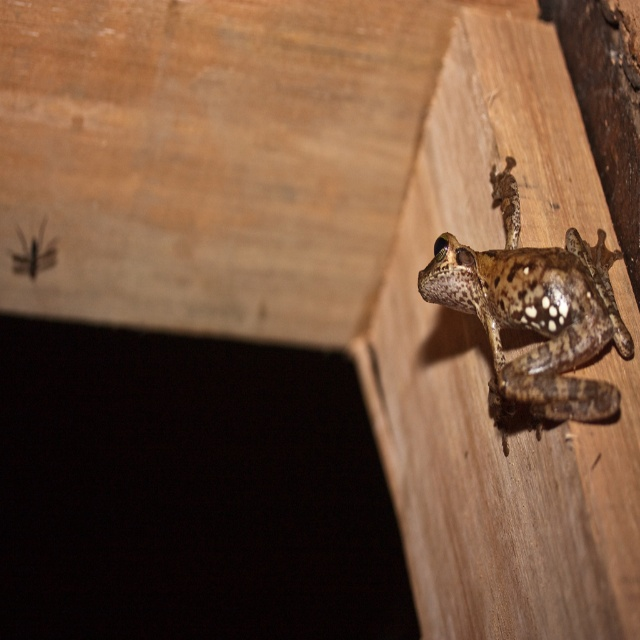Frog: (416, 153, 635, 458)
